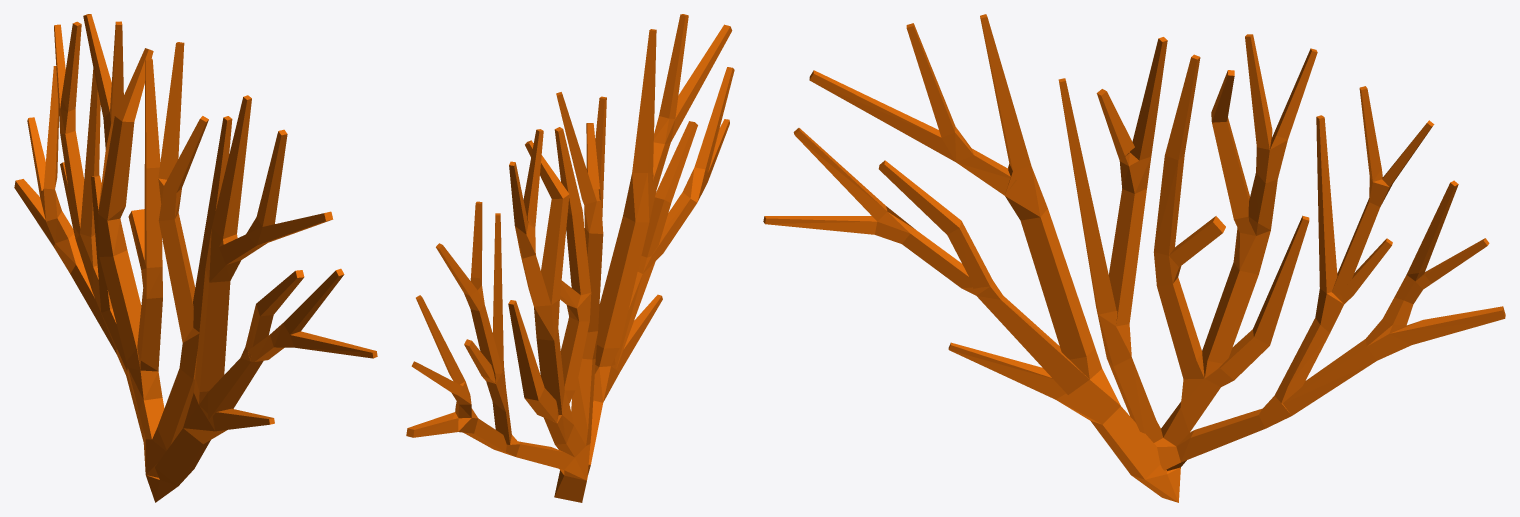
Rendered from Coral6.fbx.
3 renders of one model, left to right at view 1: azimuth 30°, elevation 25°; view 2: azimuth 150°, elevation 25°; view 3: azimuth 270°, elevation 25°, orthographic. The views are drawn at different scales.
Parts seen in each view (by area): view 1: Coral.006; view 2: Coral.006; view 3: Coral.006.
Part boxes in pixels (bbox=[...]): Coral.006: bbox=[14, 14, 377, 502]; Coral.006: bbox=[406, 14, 734, 502]; Coral.006: bbox=[763, 14, 1505, 502].
Bounding box in the file's own units: 5.08 × 38.77 × 53.73.
